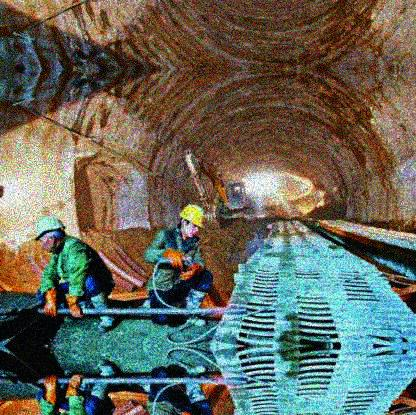helmet: (33, 218, 65, 255), (177, 203, 206, 241)
